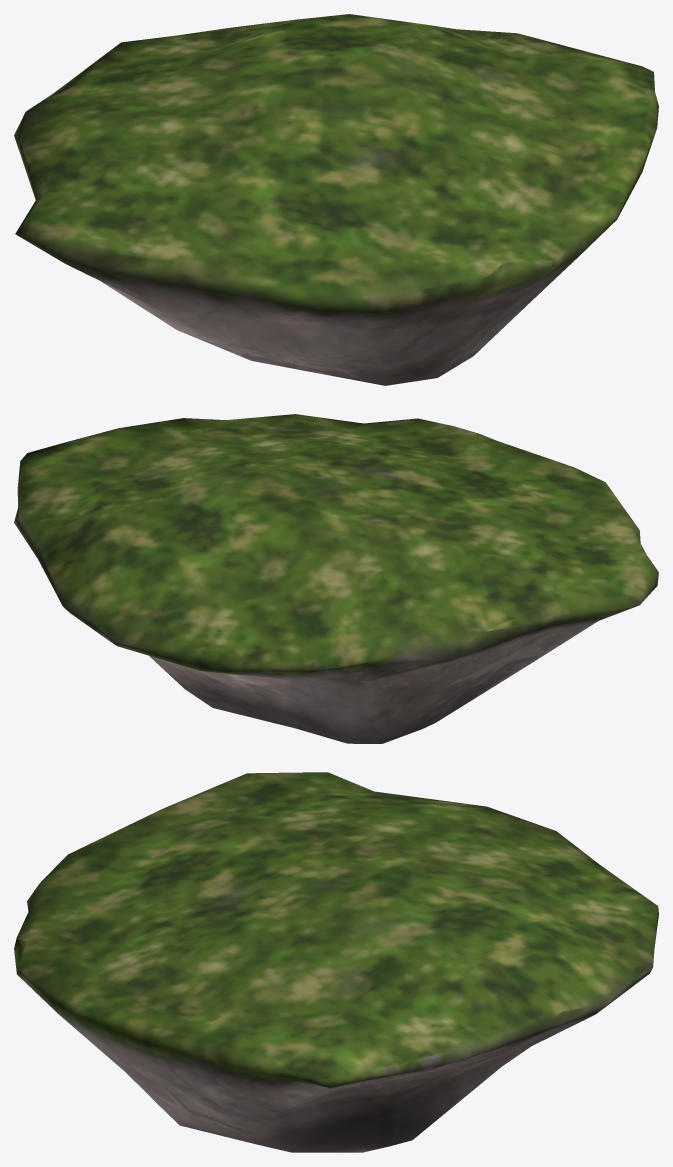
File: land_rock_08.fbx
3 renders of one model, top to bottom at view 1: azimuth 30°, elevation 25°; view 2: azimuth 150°, elevation 25°; view 3: azimuth 270°, elevation 25°, orthographic. The views are drawn at different scales.
Visible parts, largest first — view 1: land_rock_08; view 2: land_rock_08; view 3: land_rock_08.
Boxes of the visible parts, bbox=[...] form: land_rock_08: bbox=[14, 14, 658, 385]; land_rock_08: bbox=[14, 414, 658, 743]; land_rock_08: bbox=[14, 772, 658, 1152].
Size of the model in its own units: 23.31 by 8.04 by 20.39.
